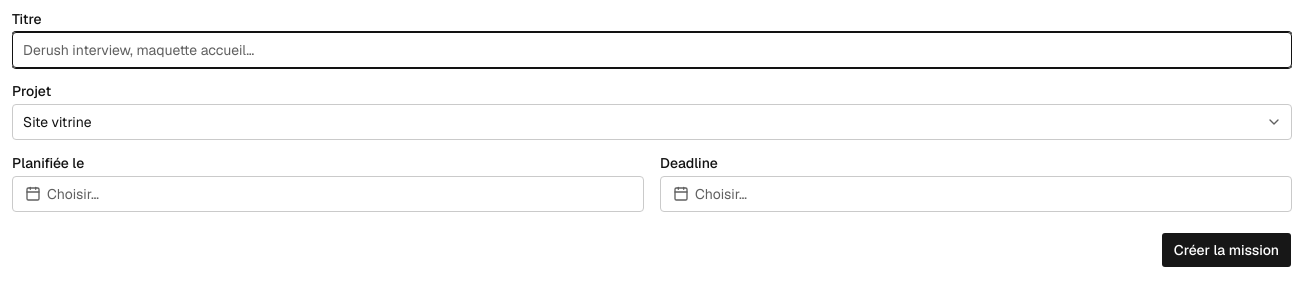
MissionForm (création) › désactive le bouton pendant la soumission
This screenshot has width=1304, height=285.
Type "Mix" into the field labelled "Titre". click: coordinates (652, 50)
box: [12, 32, 1292, 68]
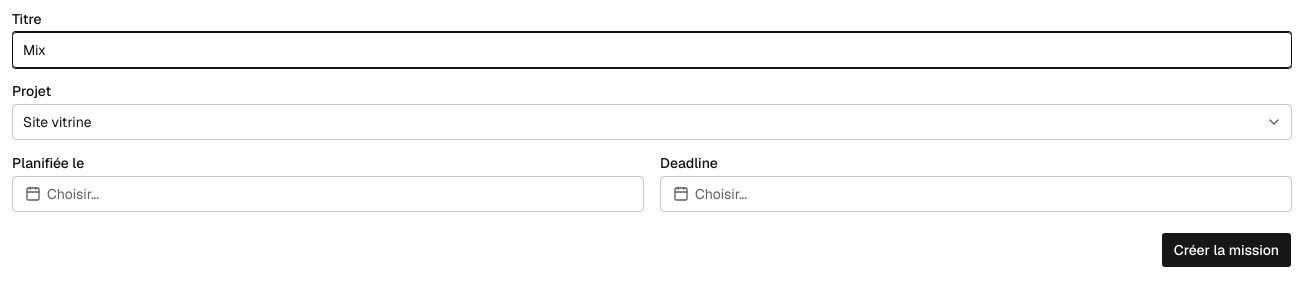
Click the button "Créer la mission". click: coordinates (1226, 250)
box: [1161, 232, 1292, 268]
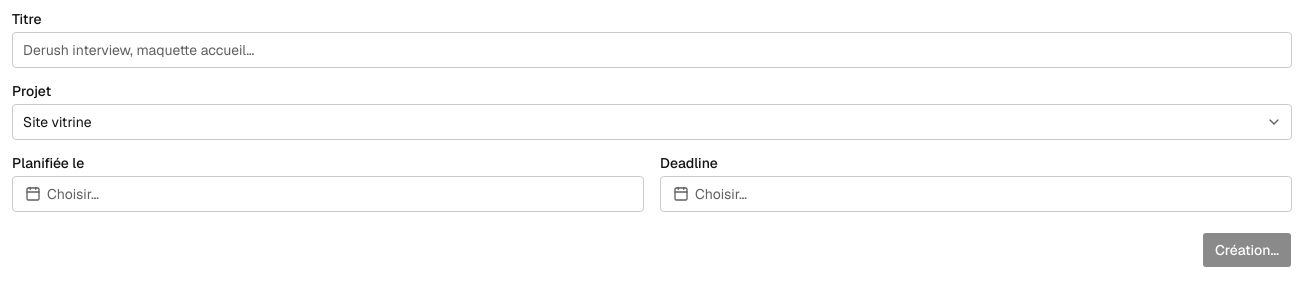
Expected: the button "Création…" is disabled, [1202, 232, 1292, 268]
